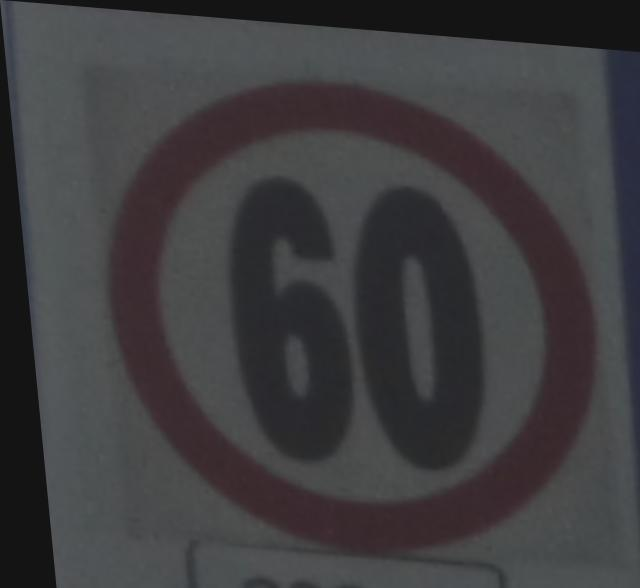limit60: (65, 47, 622, 586)
